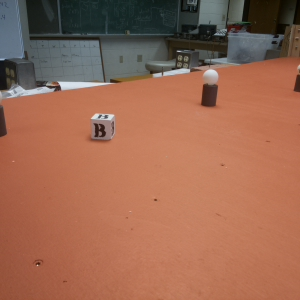blockB: (91, 112, 118, 141)
corner: (289, 21, 300, 58)
obstacle: (200, 67, 221, 108), (1, 92, 9, 138), (294, 63, 300, 94)
